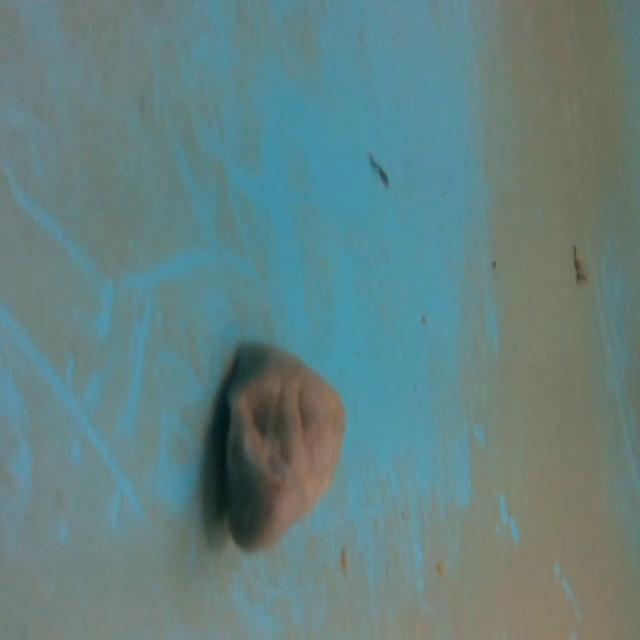rock: (212, 336, 352, 557)
